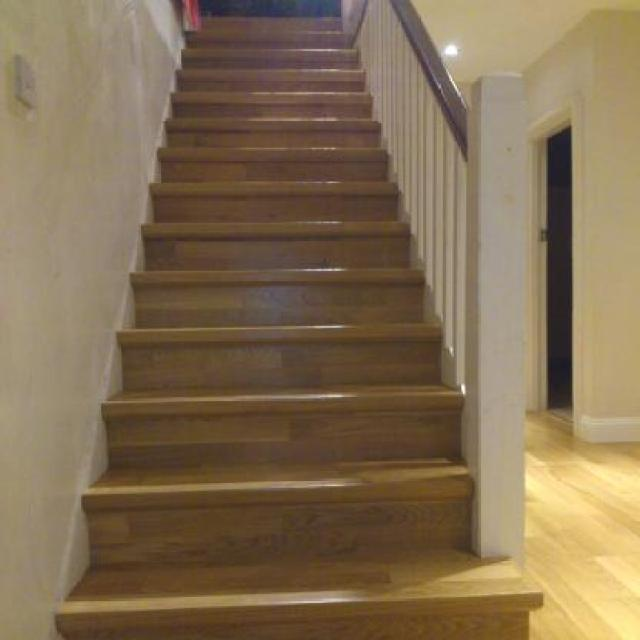stair: (52, 9, 571, 638)
